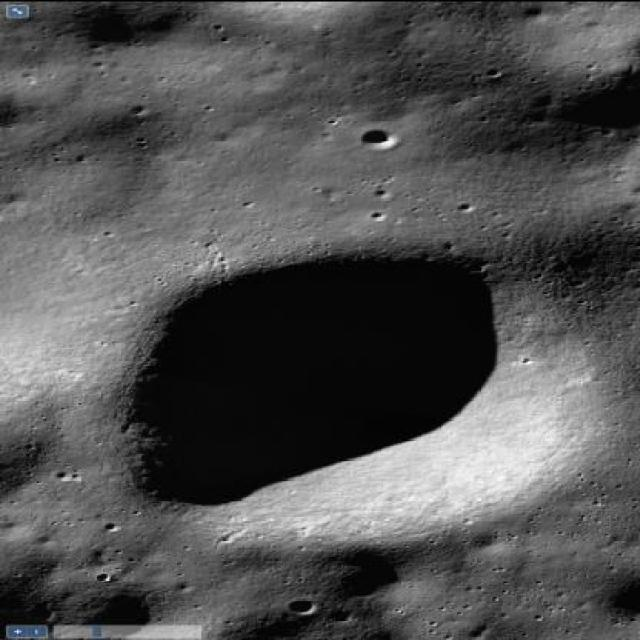crater: (126, 245, 639, 549), (357, 128, 397, 149), (283, 595, 317, 614)
